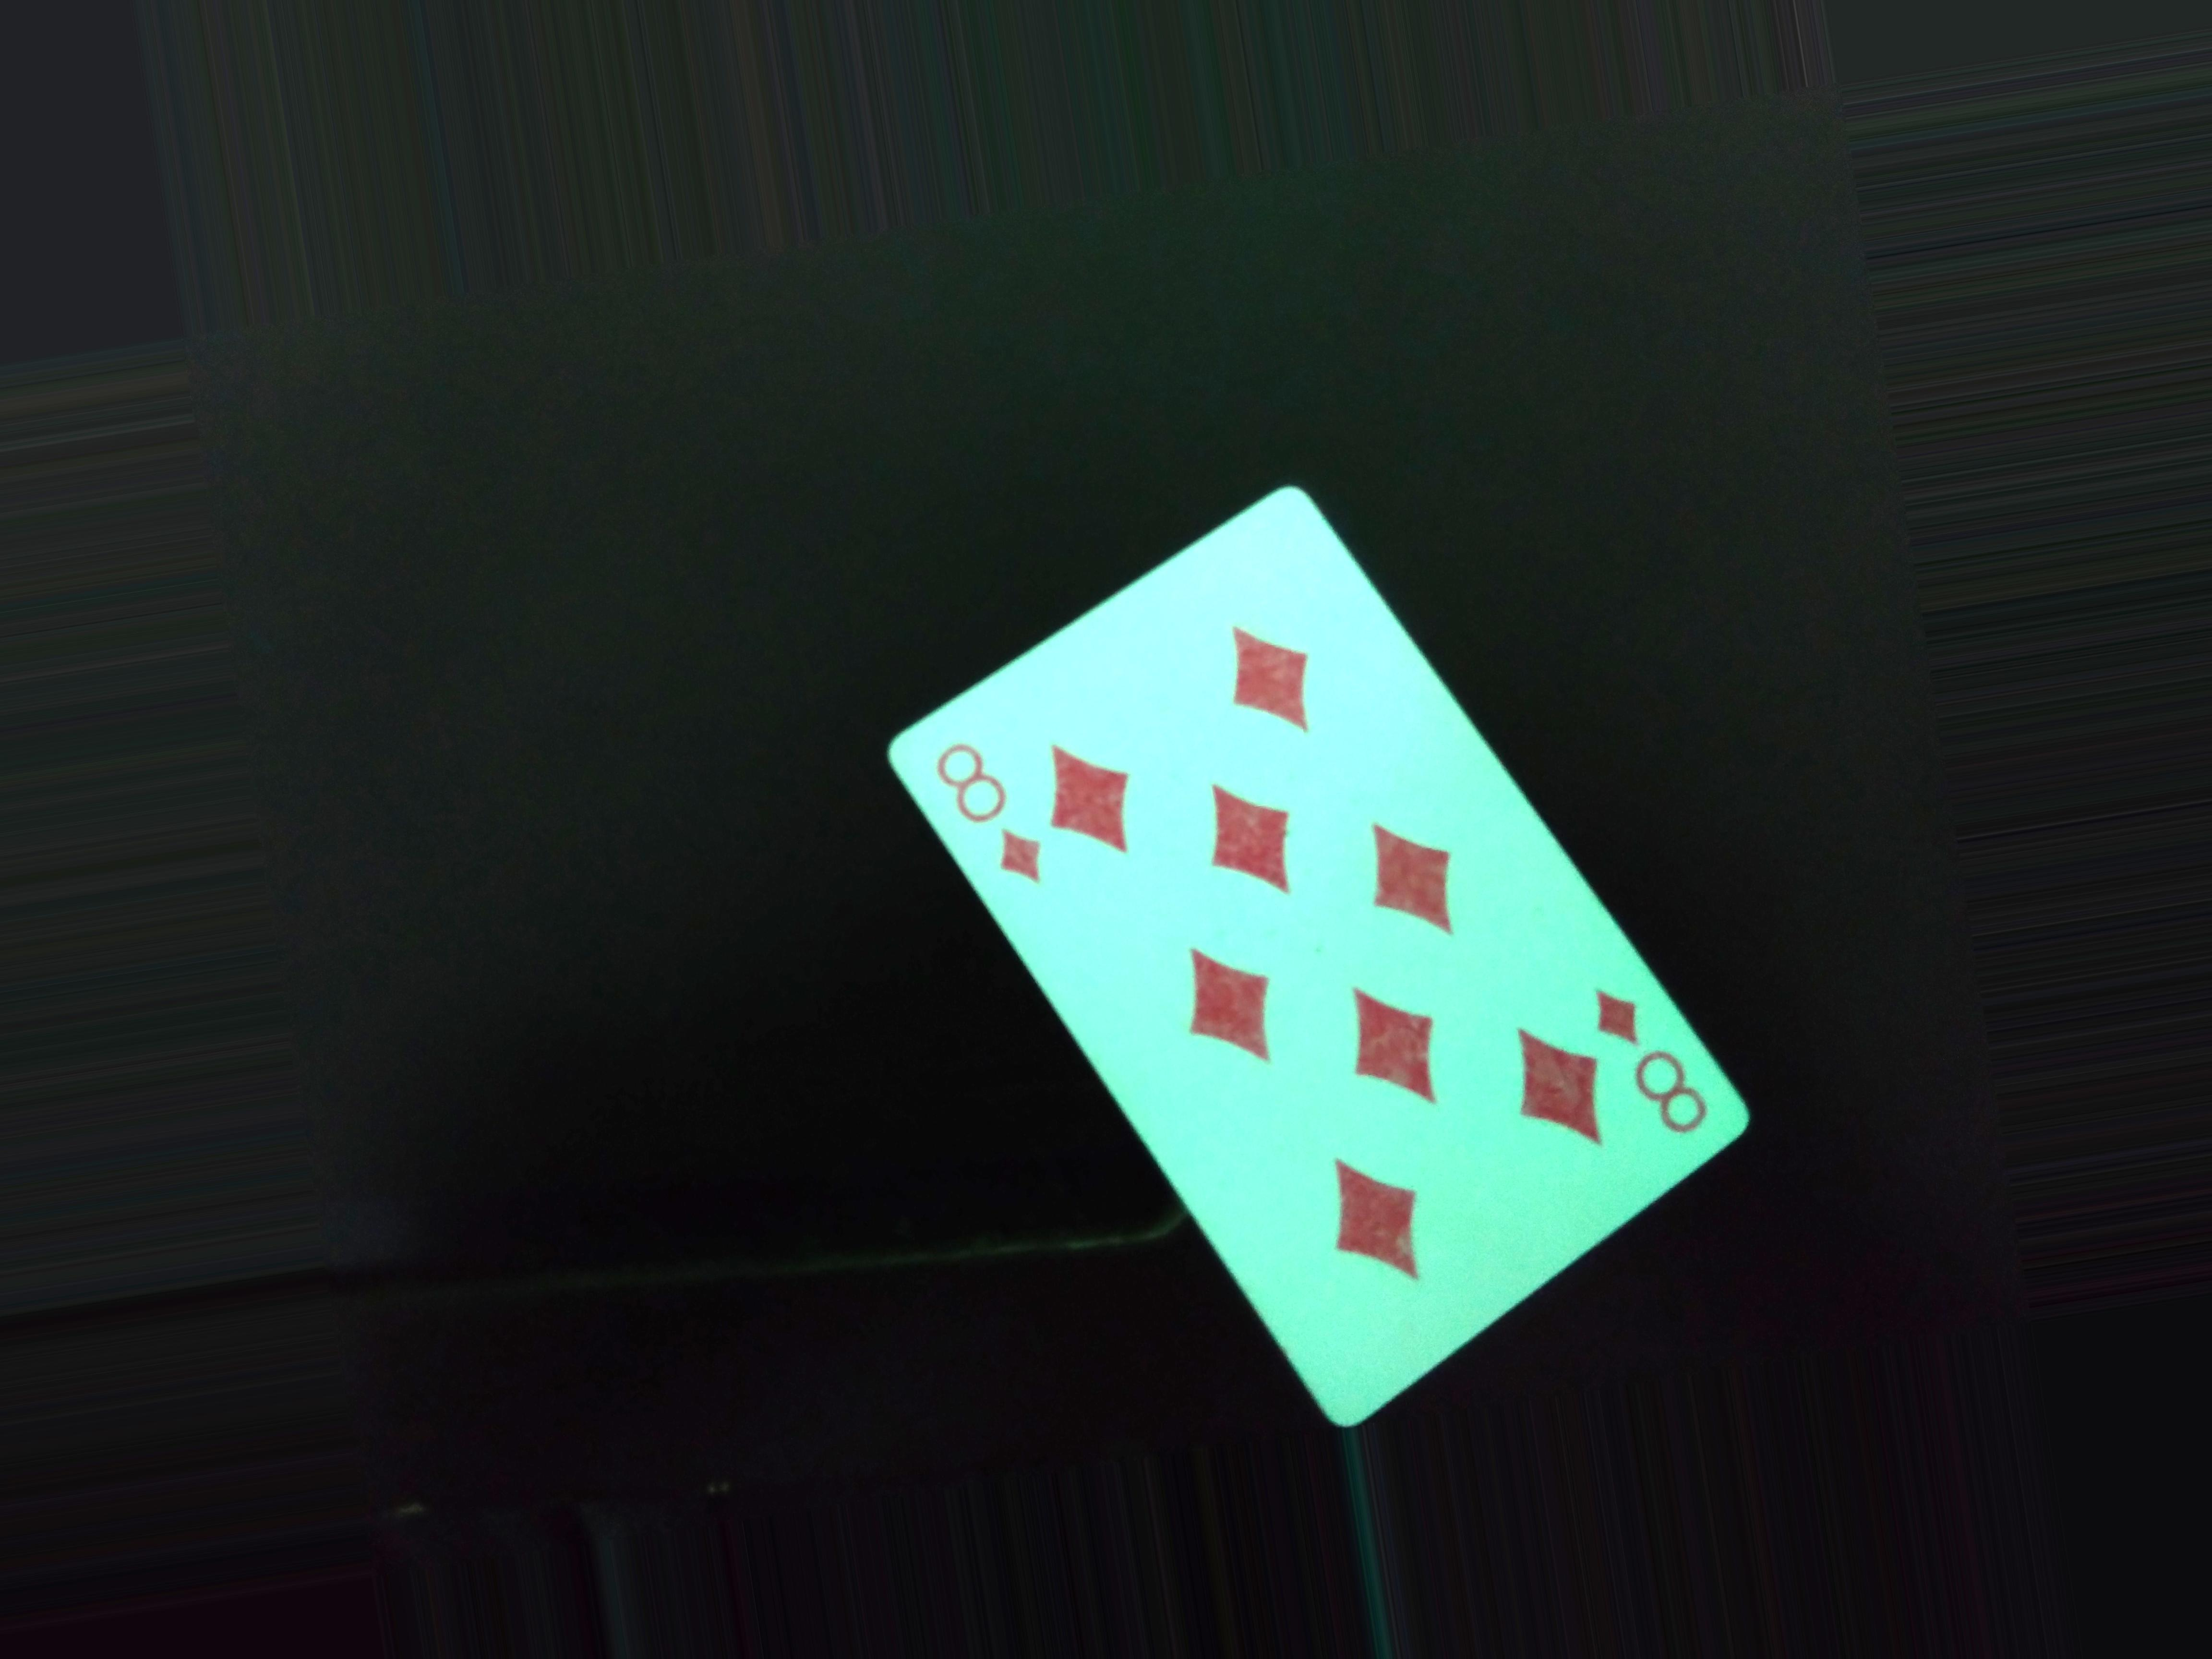8D: (1580, 964, 1730, 1211)
